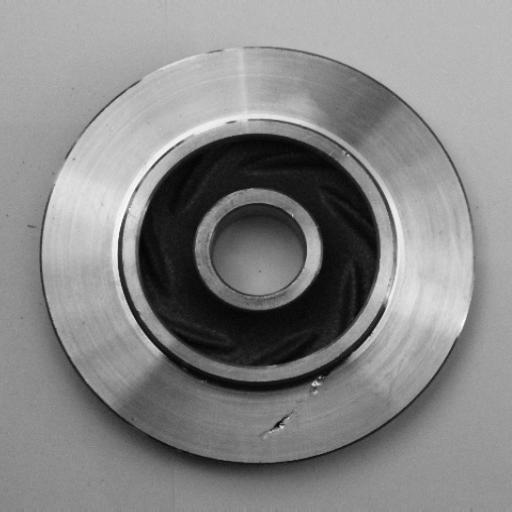crack: (258, 367, 346, 451)
scratch: (175, 108, 257, 145)
unpolished_casting: (38, 42, 477, 470)
